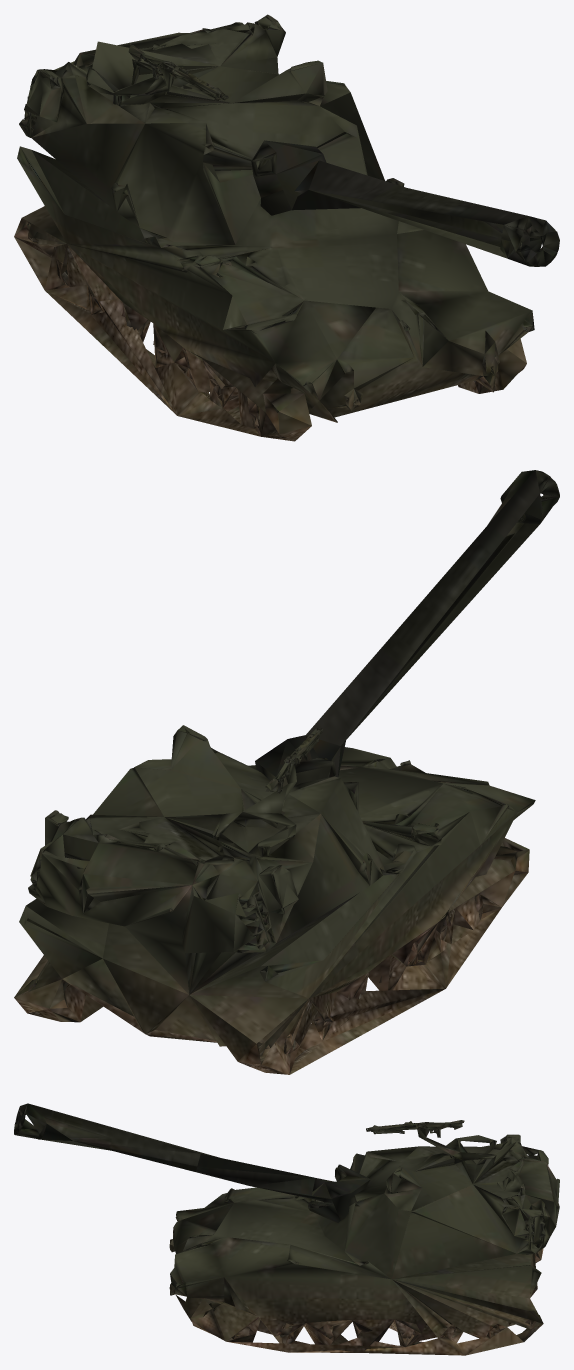
File: spg_m109.glb
The picture shows the model from 3 angles, top to bottom: view 1: azimuth 30°, elevation 25°; view 2: azimuth 150°, elevation 25°; view 3: azimuth 270°, elevation 25°; orthographic projection. The views are drawn at different scales.
Parts seen in each view (by area): view 1: M109_A3G; view 2: M109_A3G; view 3: M109_A3G.
Boxes of the visible parts, left/top/right/bottom form: M109_A3G: left=14, top=14, right=559, bottom=441; M109_A3G: left=14, top=470, right=559, bottom=1074; M109_A3G: left=14, top=1103, right=559, bottom=1355.
Size of the model in its own units: 3.35 by 3.95 by 9.1.
1 material, 1 textured.
